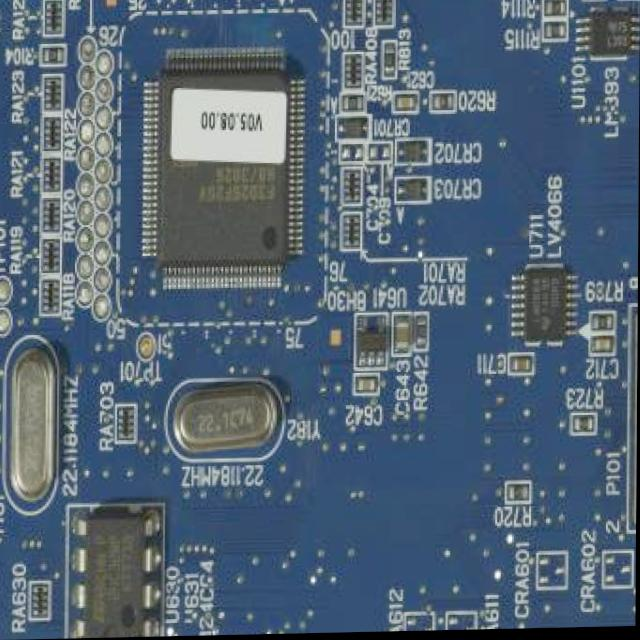IC: (152, 60, 294, 273), (84, 508, 149, 638), (174, 382, 279, 457), (9, 348, 56, 505), (521, 267, 571, 346), (586, 11, 636, 61), (357, 327, 389, 358)
capacitor: (397, 320, 411, 352), (594, 339, 613, 358), (397, 97, 416, 113), (358, 377, 375, 394), (513, 359, 531, 374), (623, 0, 640, 1)
diode: (340, 116, 366, 142), (401, 177, 427, 203), (400, 140, 425, 166)
resistor: (44, 76, 64, 110), (43, 156, 61, 191), (44, 0, 62, 35), (44, 116, 61, 153), (344, 170, 361, 204), (44, 198, 61, 232), (345, 57, 362, 90), (118, 408, 135, 441), (345, 216, 361, 251), (42, 281, 58, 315), (42, 239, 59, 271), (375, 0, 392, 29), (545, 22, 567, 43), (345, 0, 362, 26), (507, 485, 528, 505), (591, 315, 612, 335), (42, 45, 63, 65), (34, 585, 47, 617), (384, 46, 396, 78), (575, 417, 594, 437), (415, 320, 428, 349), (545, 0, 565, 18), (434, 95, 454, 112), (343, 98, 362, 114), (586, 0, 607, 2)
